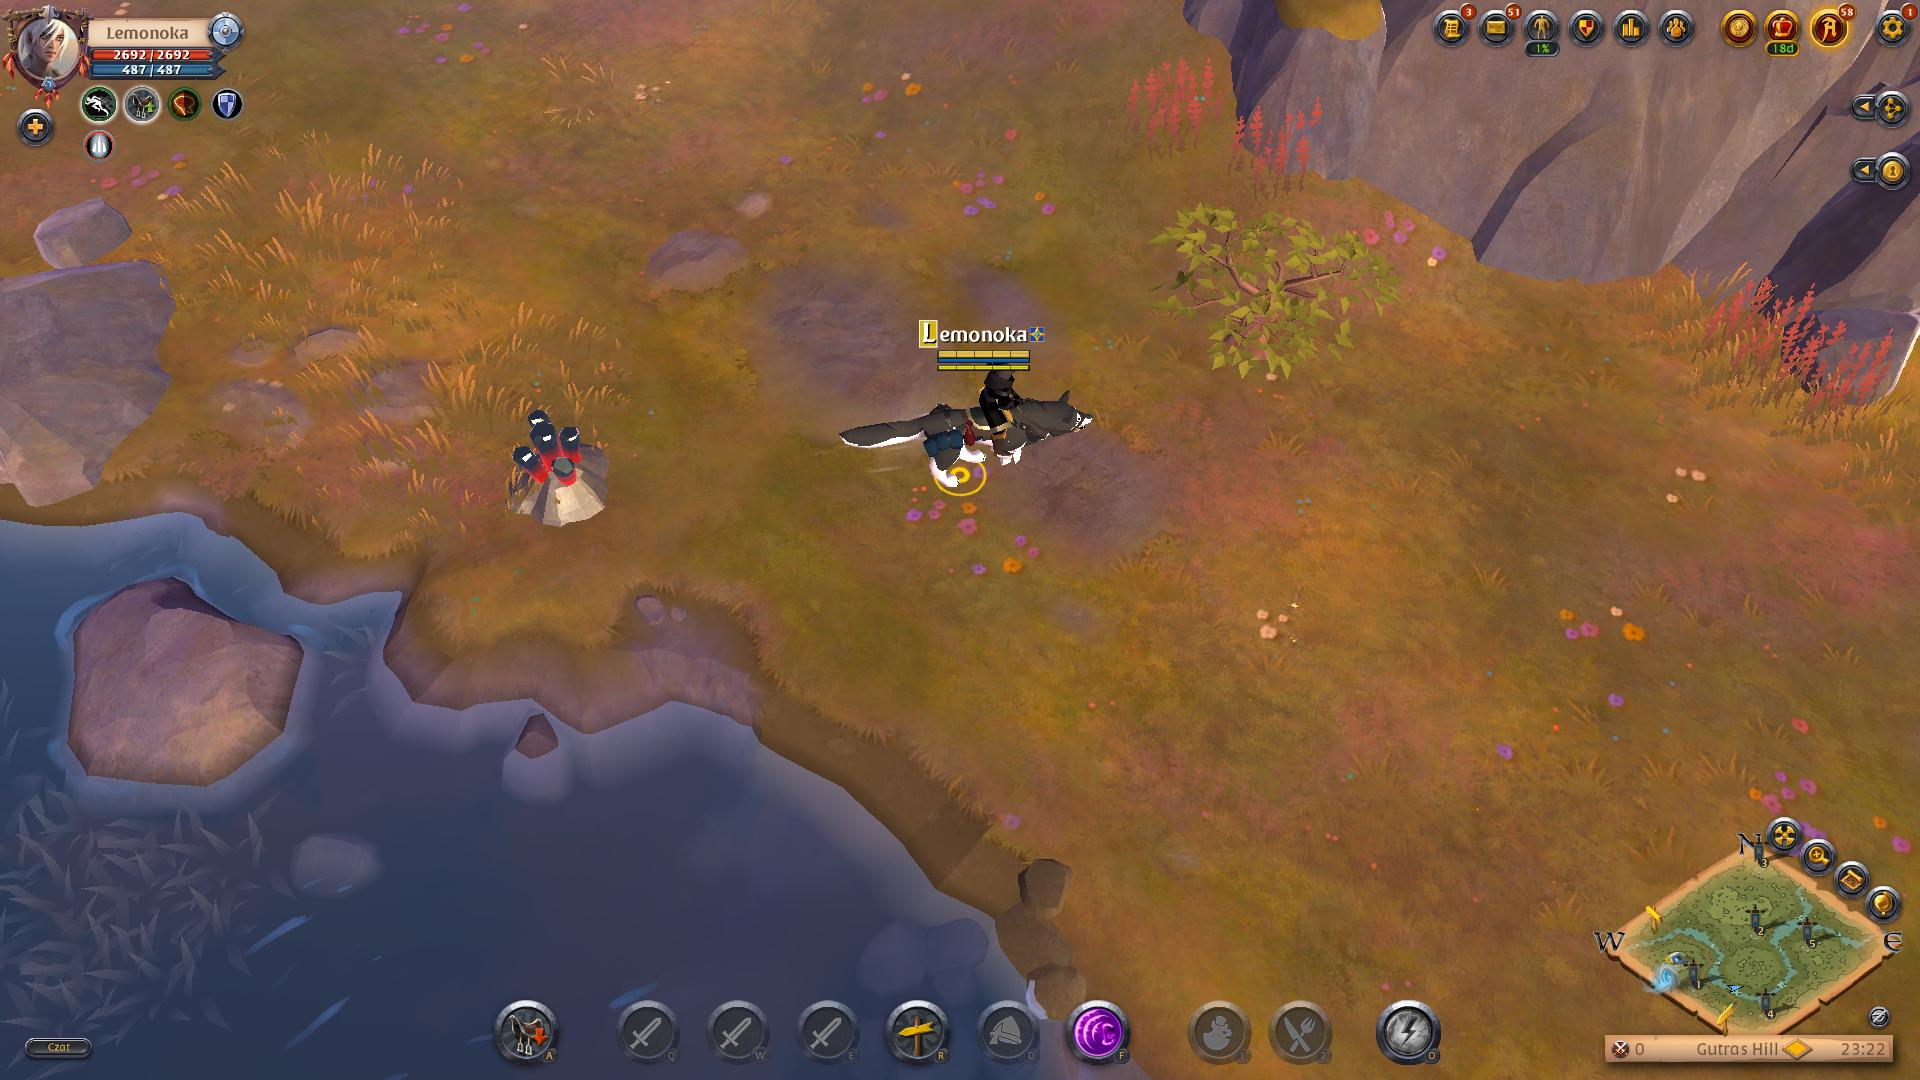ore tier 5: (492, 406, 617, 530)
